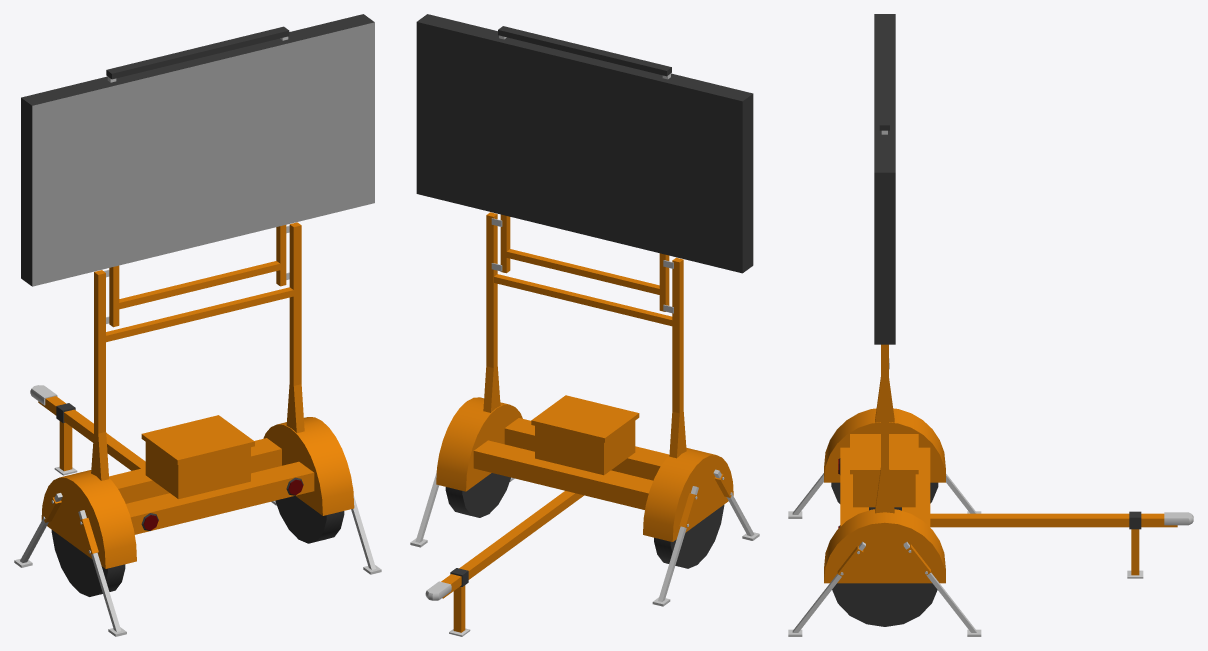
The model's file is ConstructionArrow.fbx.
3 renders of one model, left to right at view 1: azimuth 30°, elevation 25°; view 2: azimuth 150°, elevation 25°; view 3: azimuth 270°, elevation 25°, orthographic. The views are drawn at different scales.
Parts seen in each view (by area): view 1: Image, ConstructionArrow_base; view 2: ConstructionArrow_base; view 3: ConstructionArrow_base.
Part boxes in pixels (left/top/right/bottom): Image: left=32, top=22, right=374, bottom=286; ConstructionArrow_base: left=14, top=14, right=381, bottom=636; ConstructionArrow_base: left=410, top=14, right=759, bottom=636; ConstructionArrow_base: left=788, top=14, right=1193, bottom=636.
Size of the model in its own units: 42.83 by 61.77 by 46.19.
